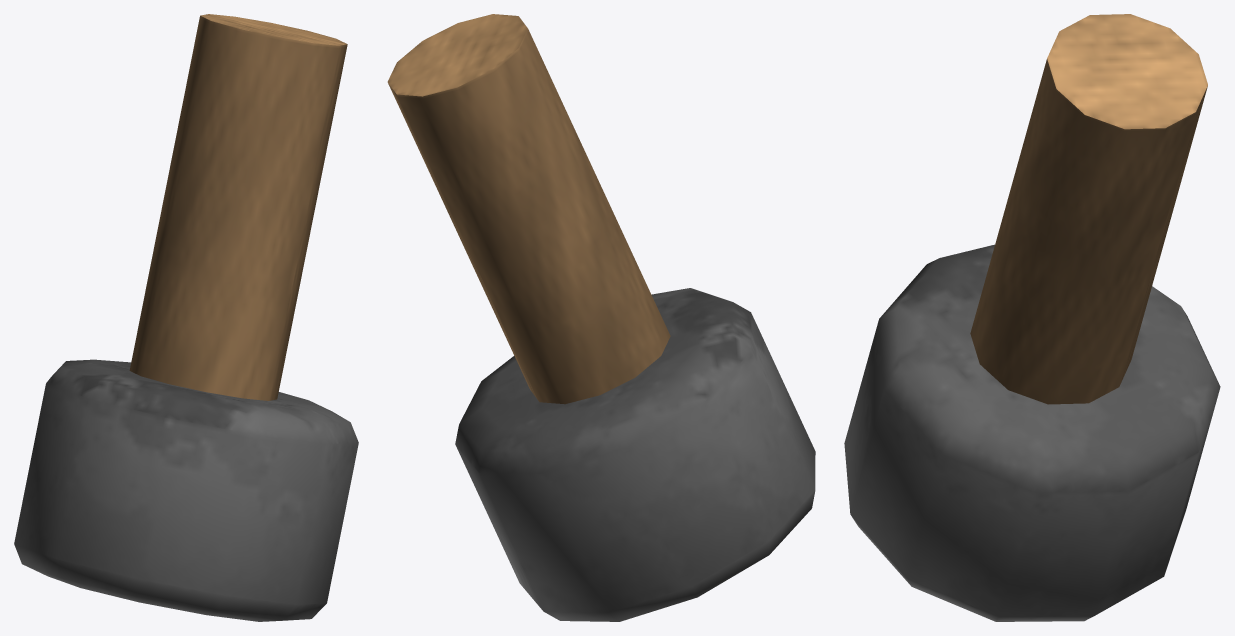
Rendered from Lontje barrle.fbx.
3 views of the same model, side by side, from view 1: azimuth 30°, elevation 25°; view 2: azimuth 150°, elevation 25°; view 3: azimuth 270°, elevation 25° (orthographic). The views are drawn at different scales.
Parts seen in each view (by area): view 1: Cannon Barrel.003; view 2: Cannon Barrel.003; view 3: Cannon Barrel.003.
Boxes of the visible parts, x1=… form: Cannon Barrel.003: x1=14, y1=14, x2=358, y2=621; Cannon Barrel.003: x1=387, y1=14, x2=815, y2=621; Cannon Barrel.003: x1=844, y1=14, x2=1220, y2=621.
Size of the model in its own units: 31.35 by 48.4 by 27.05.
